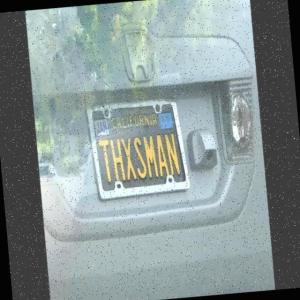Plate: (82, 88, 195, 208)
